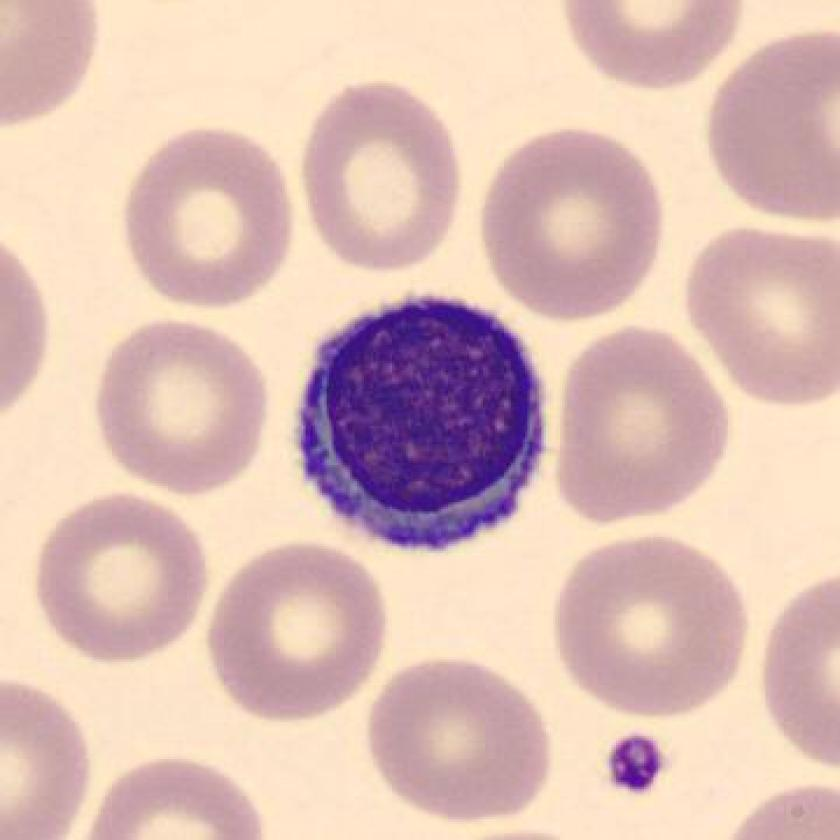lymphocyte: (279, 293, 570, 561)
